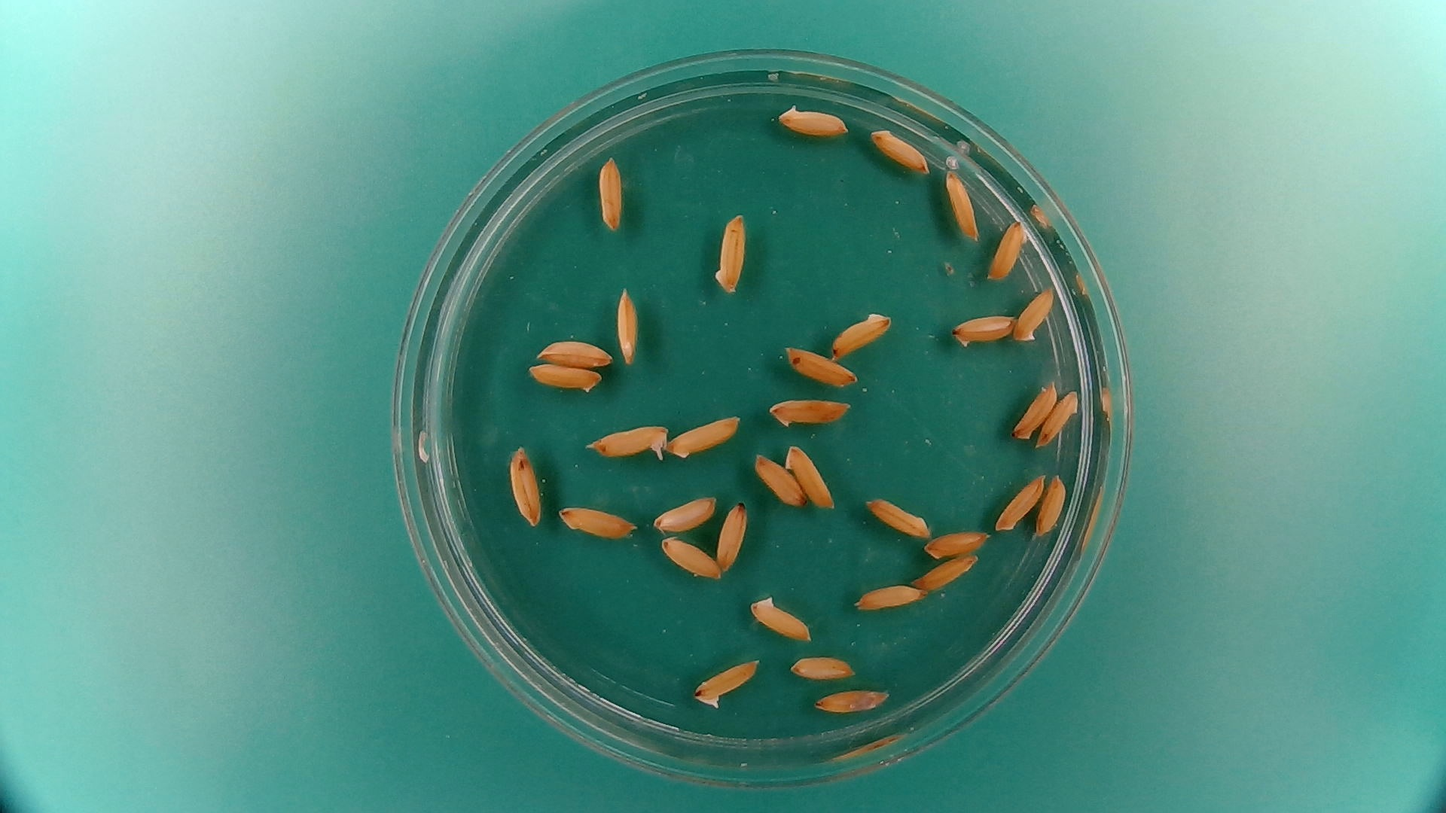no: (692, 656, 762, 711), (665, 412, 742, 460), (781, 344, 860, 389), (747, 591, 816, 642), (784, 442, 836, 509), (985, 218, 1037, 283), (828, 307, 894, 358), (556, 501, 639, 541), (711, 209, 749, 296), (868, 124, 932, 175), (505, 442, 543, 527), (657, 533, 725, 580), (993, 473, 1045, 533), (862, 495, 932, 539), (753, 452, 807, 507), (774, 100, 852, 138), (1011, 381, 1060, 441), (650, 492, 718, 534), (713, 498, 750, 573), (943, 169, 981, 242), (767, 397, 853, 429), (532, 335, 615, 367), (1013, 283, 1056, 344), (594, 153, 627, 231), (1038, 389, 1080, 450), (950, 312, 1017, 349), (915, 553, 982, 590), (528, 363, 605, 394), (613, 285, 642, 367), (811, 687, 894, 715), (853, 580, 926, 611), (787, 651, 857, 681), (922, 528, 992, 558), (1036, 473, 1068, 537)
yes: (581, 419, 670, 464)
